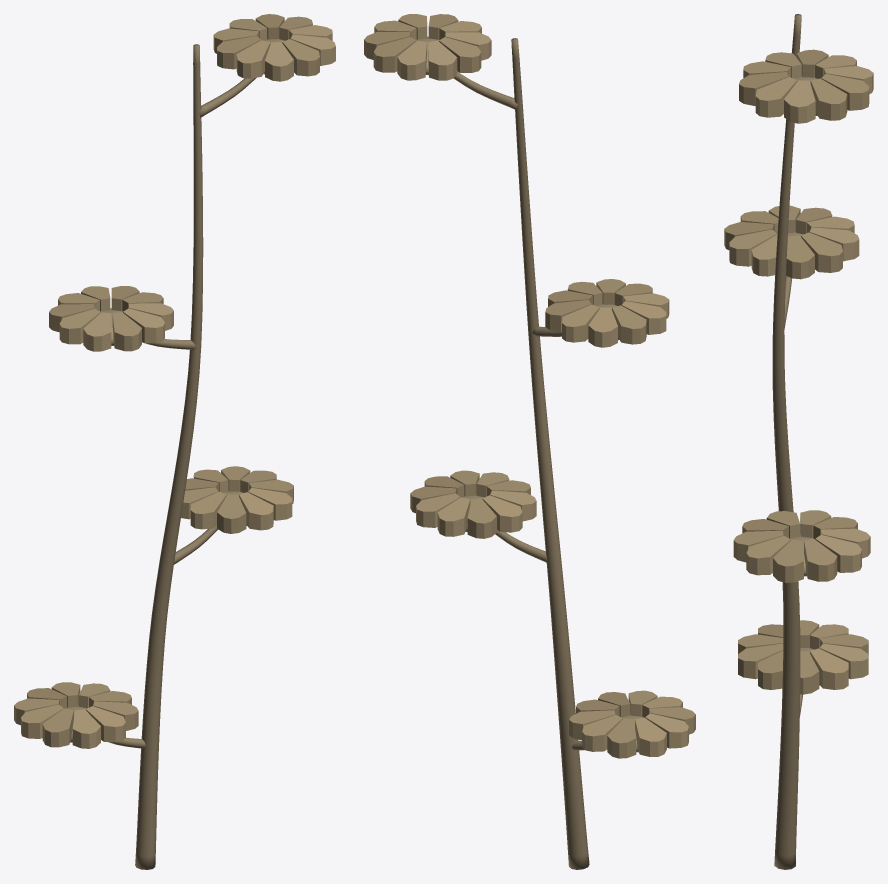
File: nordenskioldia.glb
3 views of the same model, side by side, from view 1: azimuth 30°, elevation 25°; view 2: azimuth 150°, elevation 25°; view 3: azimuth 270°, elevation 25° (orthographic). The views are drawn at different scales.
Visible parts, largest first — view 1: radial-wedge-fruitlets-with-distinct-boundaries-no-separate-, preserved-slender-fruiting-axis-only; view 2: radial-wedge-fruitlets-with-distinct-boundaries-no-separate-, preserved-slender-fruiting-axis-only; view 3: radial-wedge-fruitlets-with-distinct-boundaries-no-separate-, preserved-slender-fruiting-axis-only, persistent-umbrella-like-fruit-receptacles-attached-to-axis.
Part boxes in pixels (x1,y1,x2,y2): radial-wedge-fruitlets-with-distinct-boundaries-no-separate-: [14, 14, 335, 748]; preserved-slender-fruiting-axis-only: [108, 44, 256, 869]; radial-wedge-fruitlets-with-distinct-boundaries-no-separate-: [364, 14, 695, 758]; preserved-slender-fruiting-axis-only: [453, 38, 589, 869]; radial-wedge-fruitlets-with-distinct-boundaries-no-separate-: [724, 49, 873, 694]; preserved-slender-fruiting-axis-only: [772, 14, 802, 869]; persistent-umbrella-like-fruit-receptacles-attached-to-axis: [787, 76, 819, 685].
Size of the model in its own units: 0.0642 by 0.16 by 0.0246.
